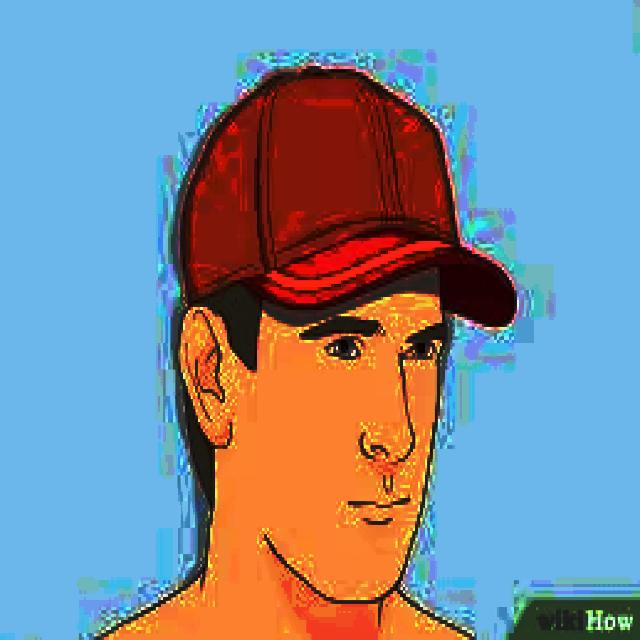TOPI: (173, 56, 519, 327)
